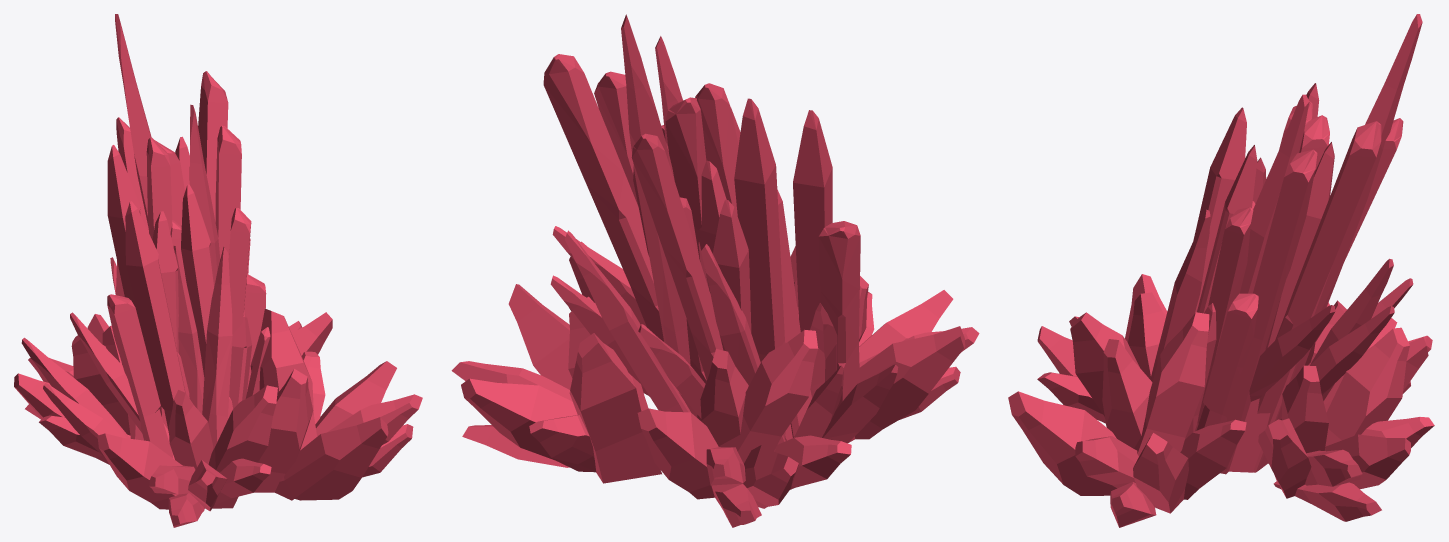
Rendered from SM_Crystal_Big_1.fbx.
The picture shows the model from 3 angles, left to right: view 1: azimuth 30°, elevation 25°; view 2: azimuth 150°, elevation 25°; view 3: azimuth 270°, elevation 25°; orthographic projection. The views are drawn at different scales.
Parts seen in each view (by area): view 1: SM_Crystal_Big_1; view 2: SM_Crystal_Big_1; view 3: SM_Crystal_Big_1.
Part boxes in pixels (x1,y1,x2,y2): SM_Crystal_Big_1: (14, 14, 422, 527); SM_Crystal_Big_1: (451, 14, 979, 527); SM_Crystal_Big_1: (1008, 14, 1434, 527).
Size of the model in its own units: 698 by 878 by 747.
